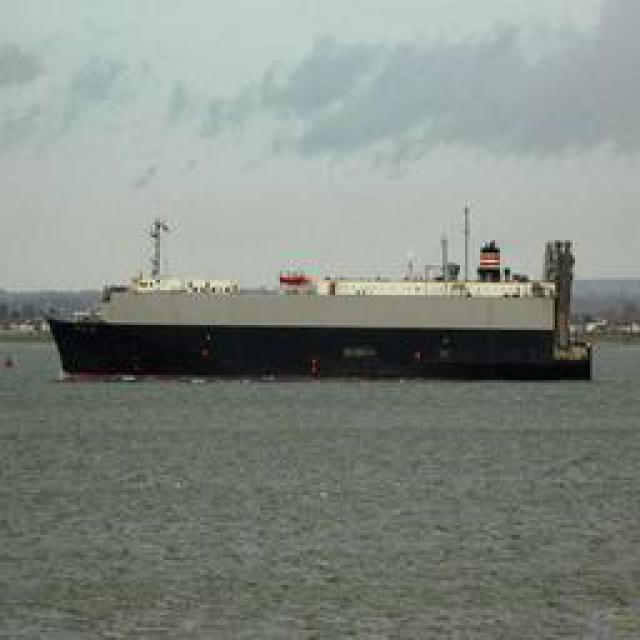Ship: (65, 219, 590, 382)
